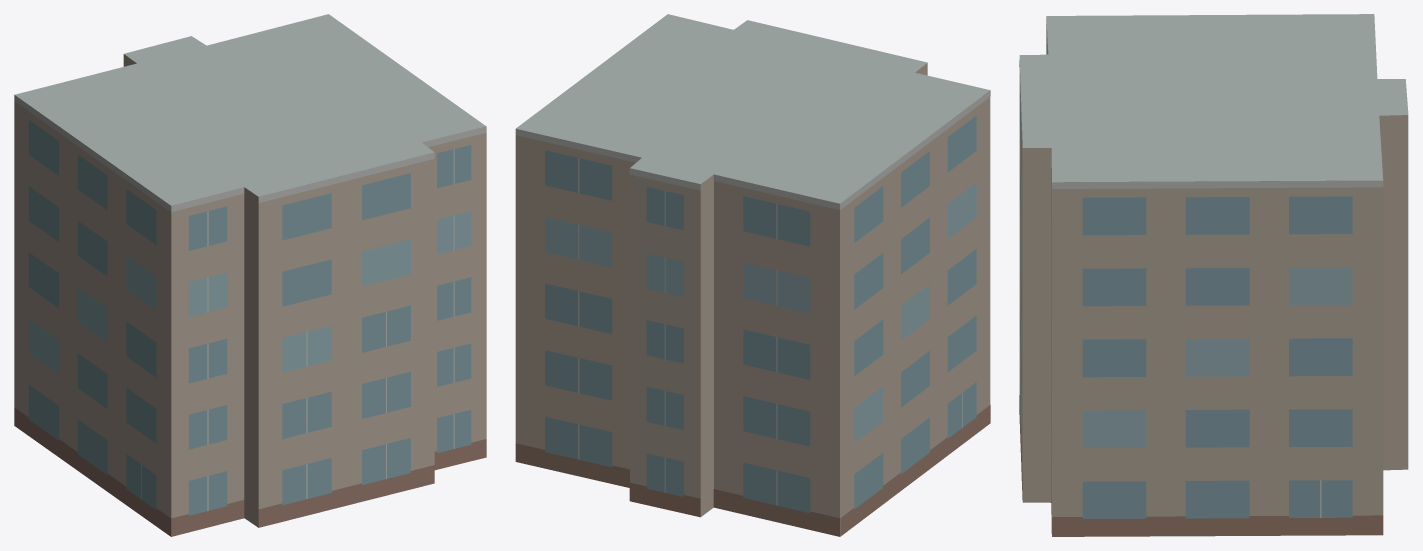
File: survey-upis-33013864.glb
The picture shows the model from 3 angles, left to right: view 1: azimuth 30°, elevation 25°; view 2: azimuth 150°, elevation 25°; view 3: azimuth 270°, elevation 25°; orthographic projection. The views are drawn at different scales.
Parts seen in each view (by area): view 1: survey-upis-33013864.tmp; view 2: survey-upis-33013864.tmp; view 3: survey-upis-33013864.tmp.
Boxes of the visible parts, bbox=[...] form: survey-upis-33013864.tmp: bbox=[14, 14, 486, 536]; survey-upis-33013864.tmp: bbox=[515, 14, 990, 536]; survey-upis-33013864.tmp: bbox=[1019, 14, 1408, 536].
Bounding box in the file's own units: 12.87 × 12.65 × 12.59.
